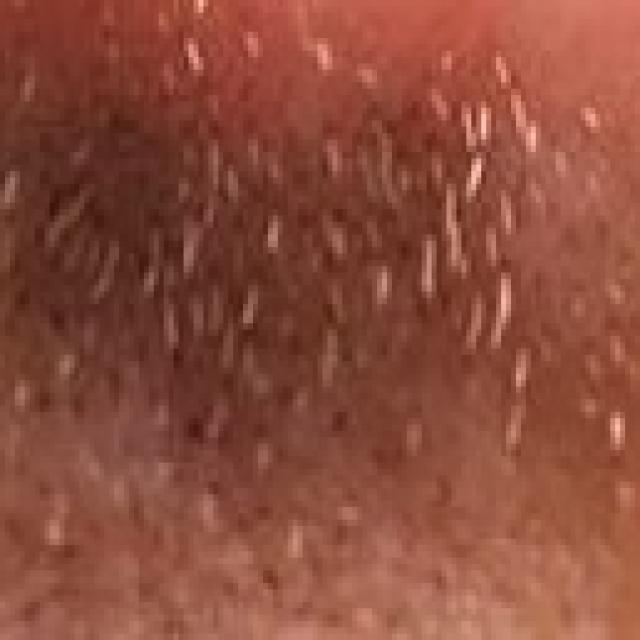whitehead: (3, 31, 629, 597)
